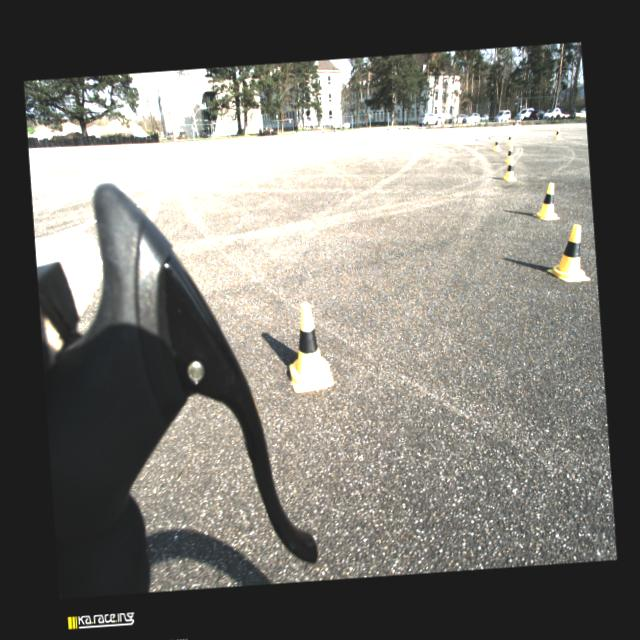yellow_cone: (282, 300, 334, 393), (543, 222, 592, 284), (534, 180, 560, 220), (502, 154, 517, 182), (504, 144, 516, 164), (552, 126, 561, 140), (492, 138, 500, 152), (506, 132, 514, 144)
